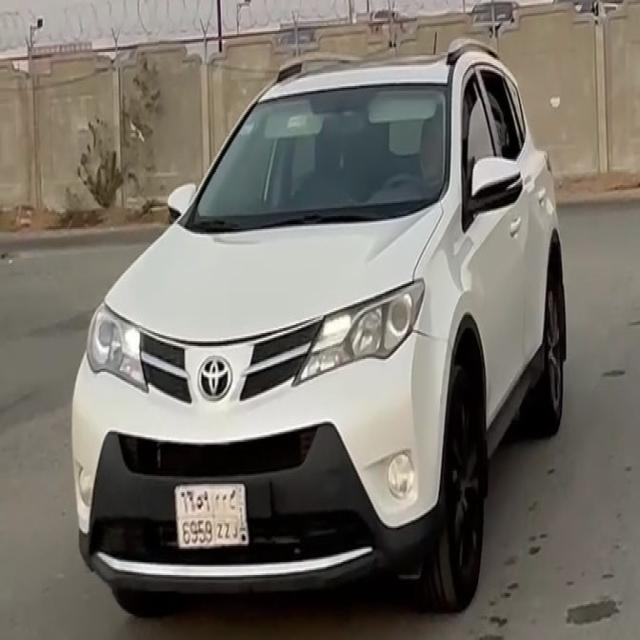Car-plate: (170, 464, 260, 560)
